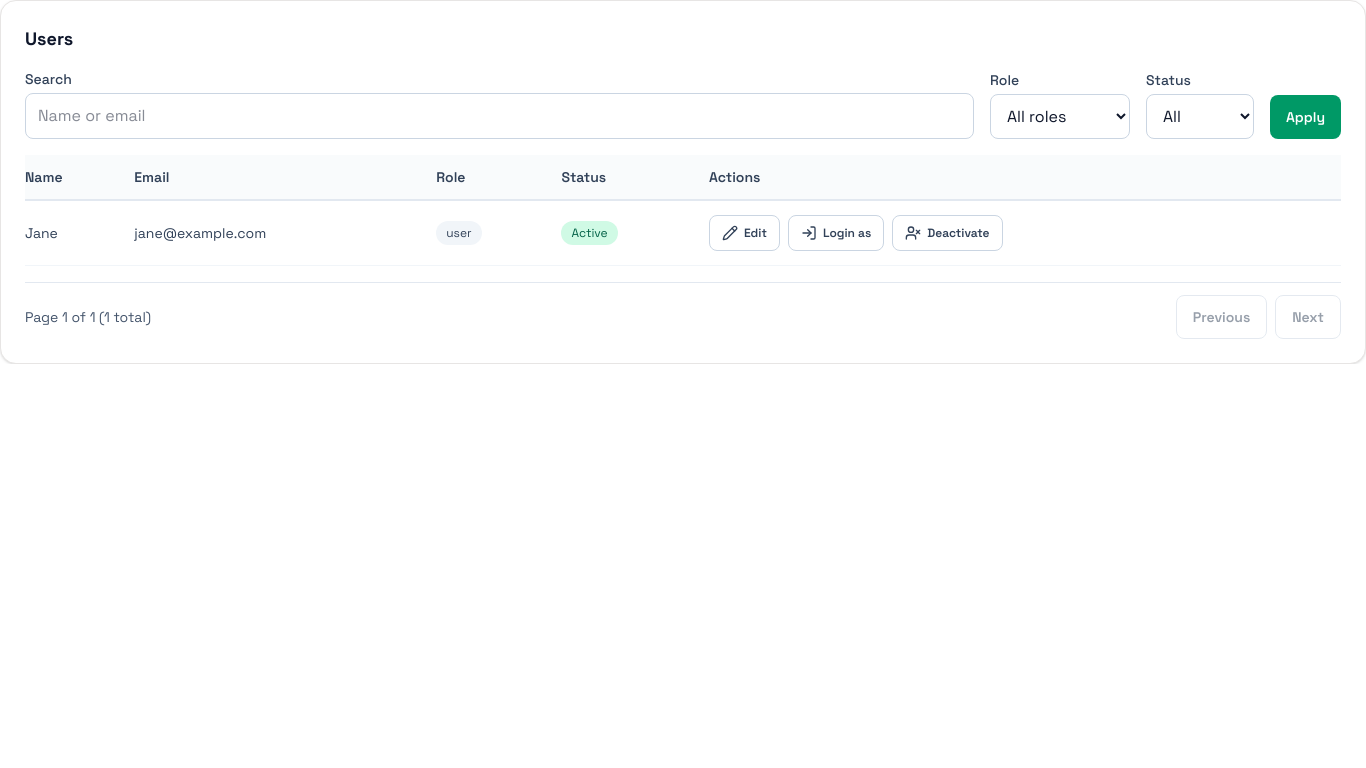
Test: UsersPage › shows user list and opens edit modal
This screenshot has width=1366, height=768.
Click the button with aria-label "Edit Jane": [744, 233] box [709,215,780,251]
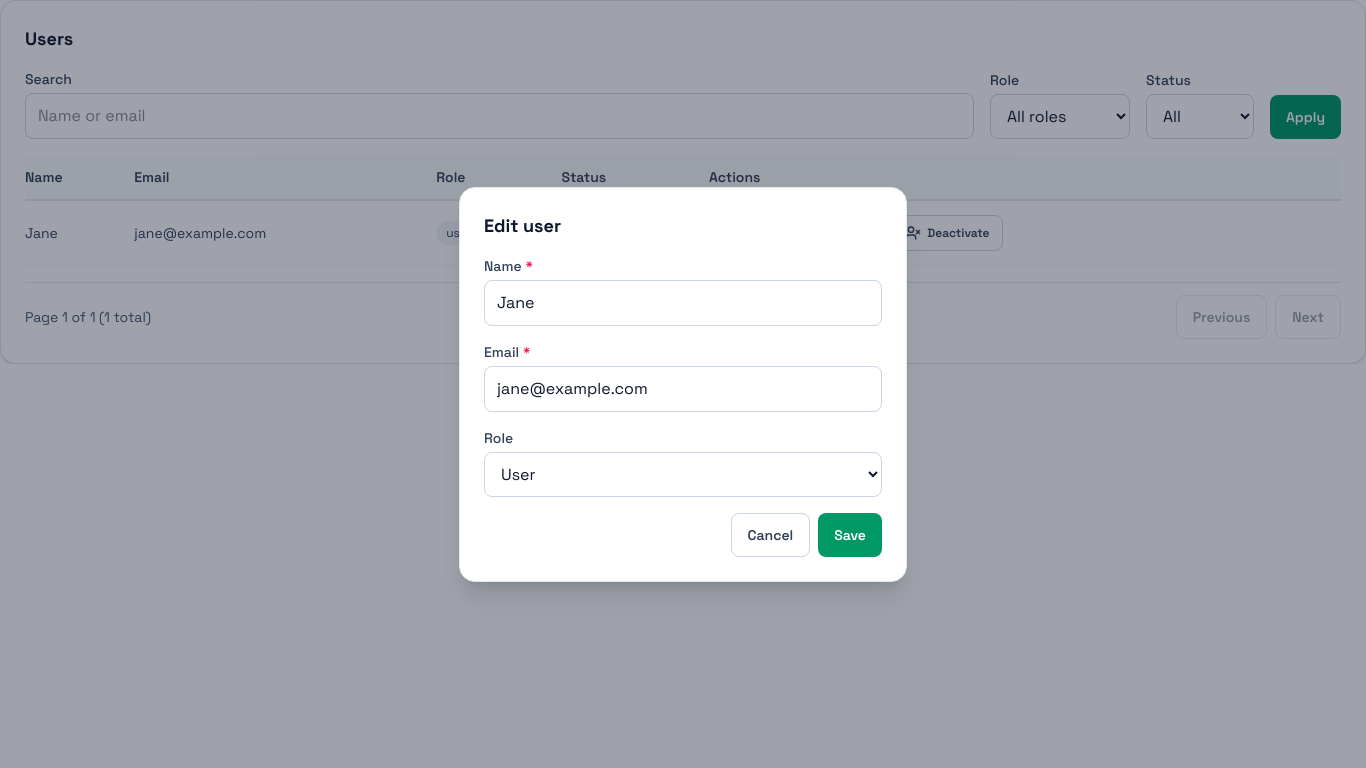
Check: the dialog "Edit user Name* Email* Role Cancel Save" is shown
Check: the field labelled "Name*" holds "Jane", box [484,280,882,326]
Check: the field labelled "Email*" holds "jane@example.com", box [484,366,882,412]
Click the button "Cancel": [770, 534] box [730,512,810,556]
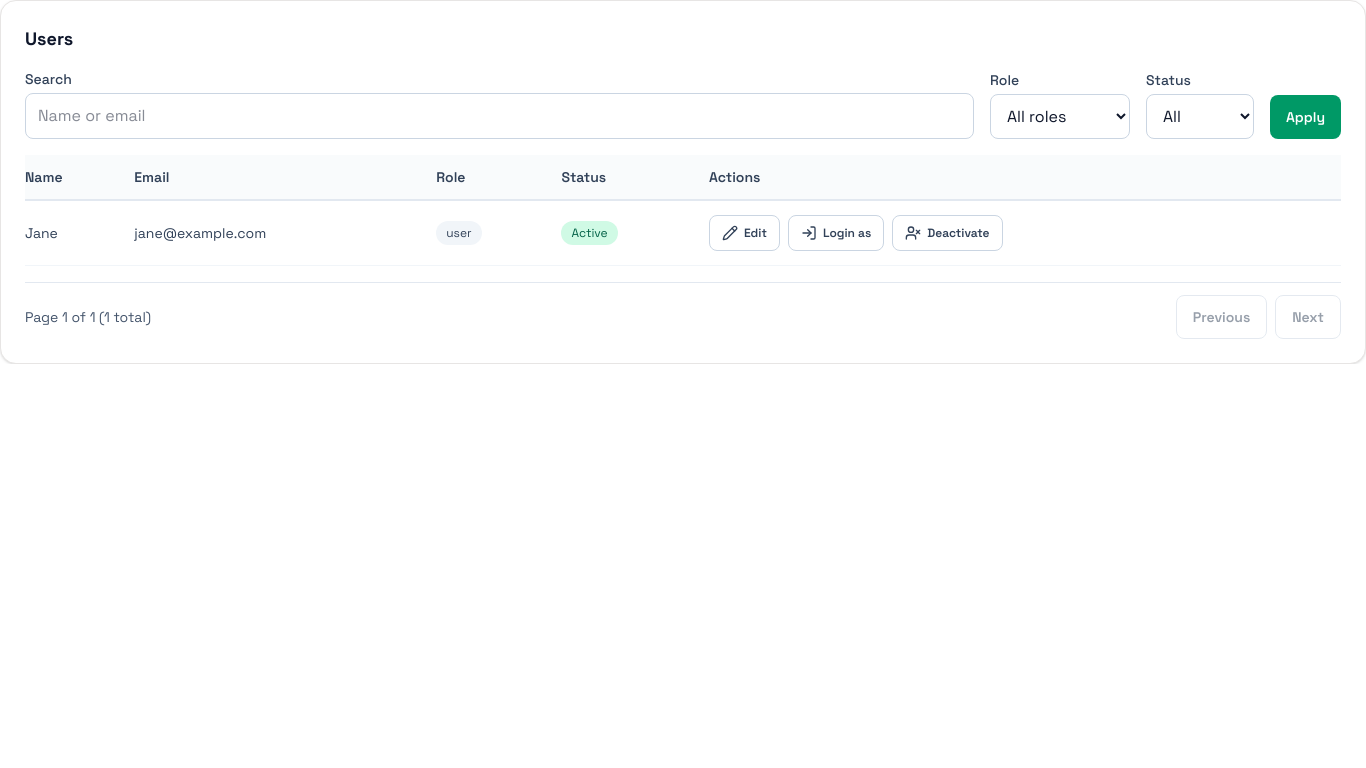
Check: the heading "Edit user" is gone
